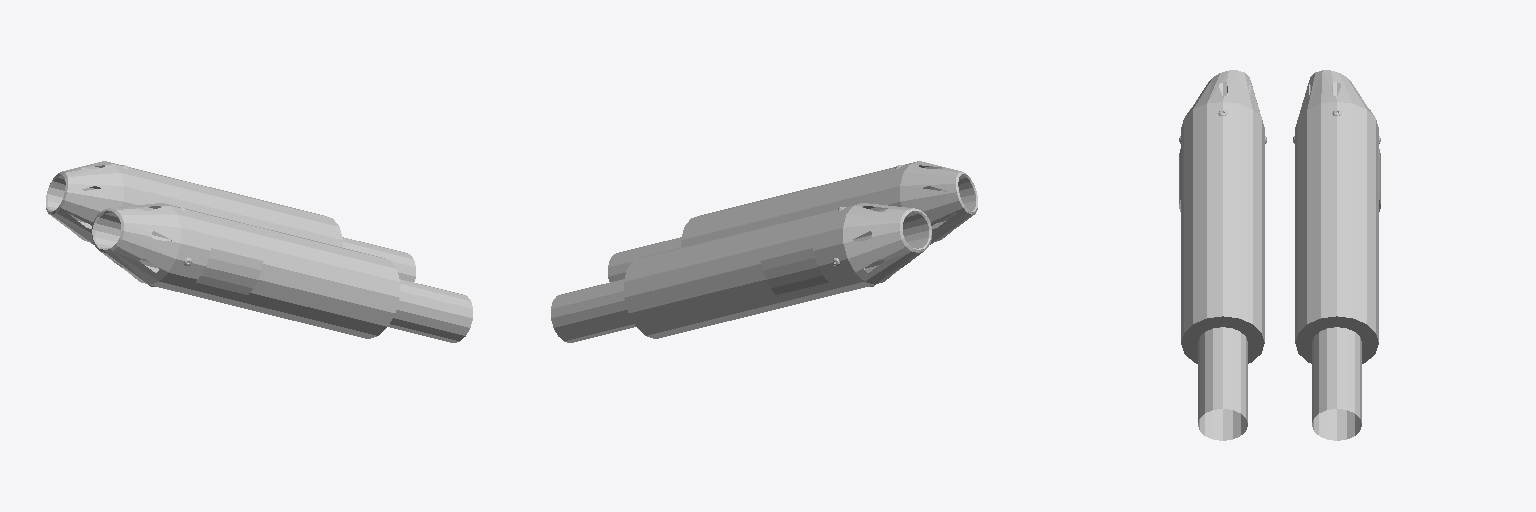
Rendered from exhaust_hyperflow.obj.
The picture shows the model from 3 angles: view 1: azimuth 30°, elevation 25°; view 2: azimuth 150°, elevation 25°; view 3: azimuth 270°, elevation 25°; orthographic projection.
Parts seen in each view (by area): view 1: hyperflo_bullets_polySurface79; view 2: hyperflo_bullets_polySurface79; view 3: hyperflo_bullets_polySurface79.
Boxes of the visible parts, box(x1,y1,x2,y2) form: hyperflo_bullets_polySurface79: box(46, 161, 472, 342); hyperflo_bullets_polySurface79: box(551, 161, 977, 342); hyperflo_bullets_polySurface79: box(1179, 70, 1380, 440).
Size of the model in its own units: 16.66 by 9.14 by 7.98.